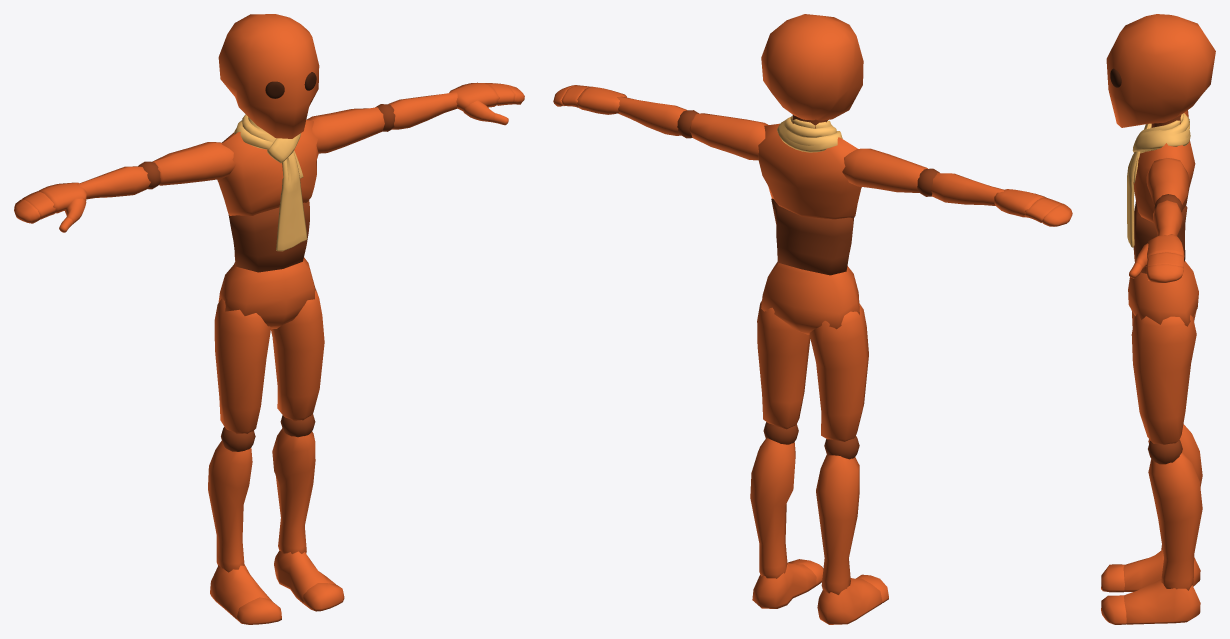
The model's file is sky.glb.
3 views of the same model, side by side, from view 1: azimuth 30°, elevation 25°; view 2: azimuth 150°, elevation 25°; view 3: azimuth 270°, elevation 25° (orthographic).
Visible parts, largest first — view 1: Sky; view 2: Sky; view 3: Sky.
Boxes of the visible parts, x1,y1,x2,y2 form: Sky: (14,14,524,624); Sky: (553,14,1072,624); Sky: (1101,14,1215,624).
Size of the model in its own units: 1.15 by 1.26 by 0.2257.
